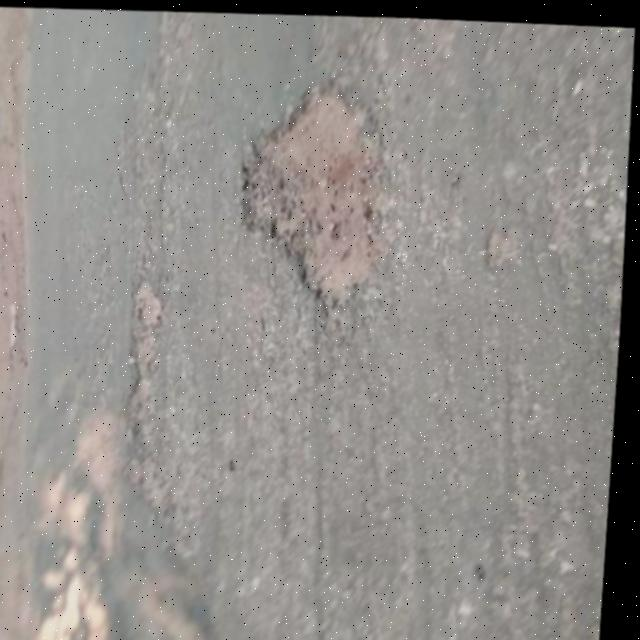Pothole: (228, 75, 401, 325), (122, 268, 171, 450)
